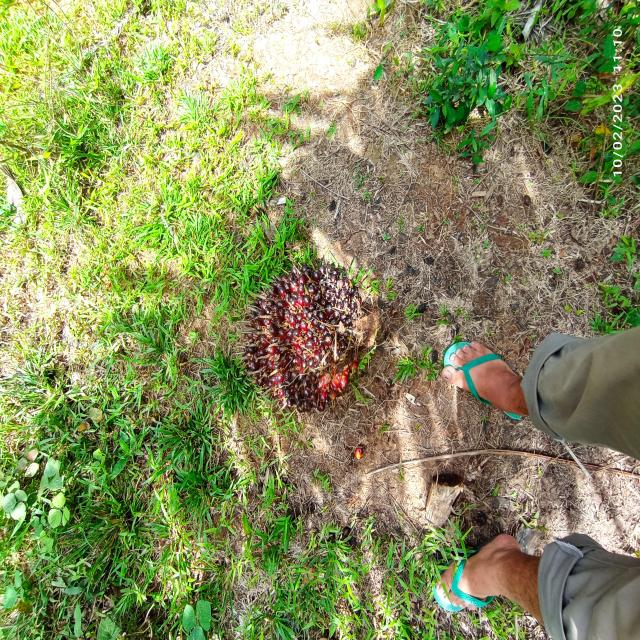fraksi 1: (232, 201, 384, 451)
